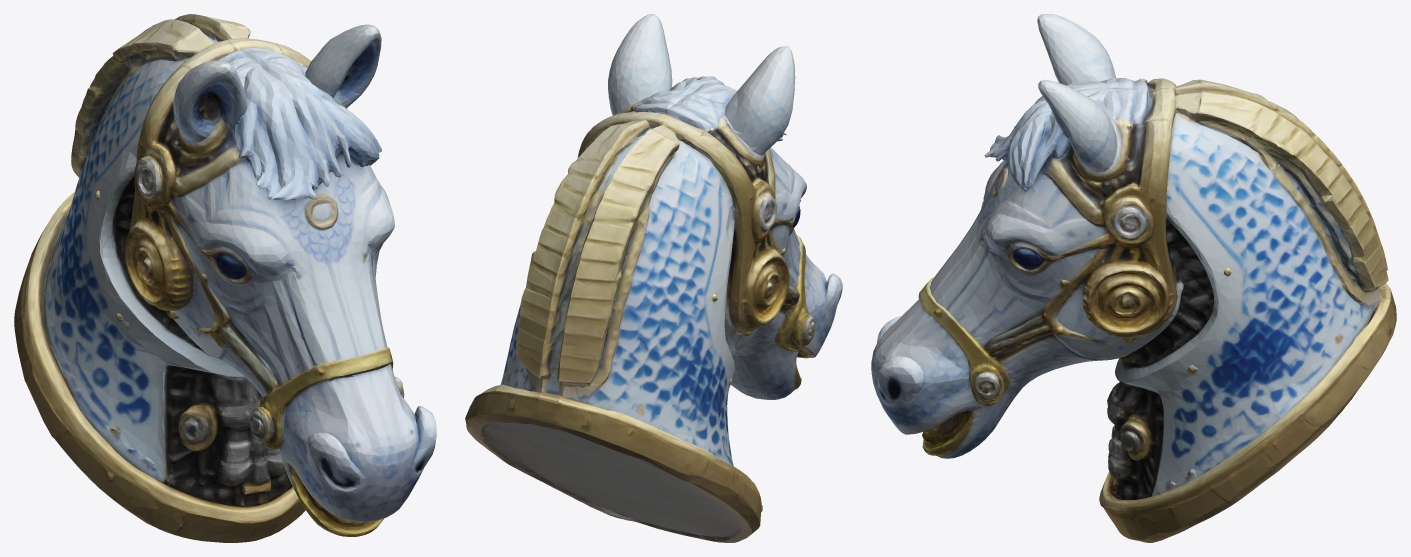
The model's file is Camera_1040g34o31hnup72ck24g5nue8l108b6nb88hkf8-2.glb.
3 views of the same model, side by side, from view 1: azimuth 30°, elevation 25°; view 2: azimuth 150°, elevation 25°; view 3: azimuth 270°, elevation 25° (orthographic). The views are drawn at different scales.
Visible parts, largest first — view 1: world; view 2: world; view 3: world.
Part boxes in pixels (x1=…): world: x1=14, y1=14, x2=436, y2=542; world: x1=465, y1=14, x2=842, y2=542; world: x1=871, y1=14, x2=1396, y2=542.
Size of the model in its own units: 0.5852 by 1 by 0.9994.
Materials: 1 (1 with a texture image).
